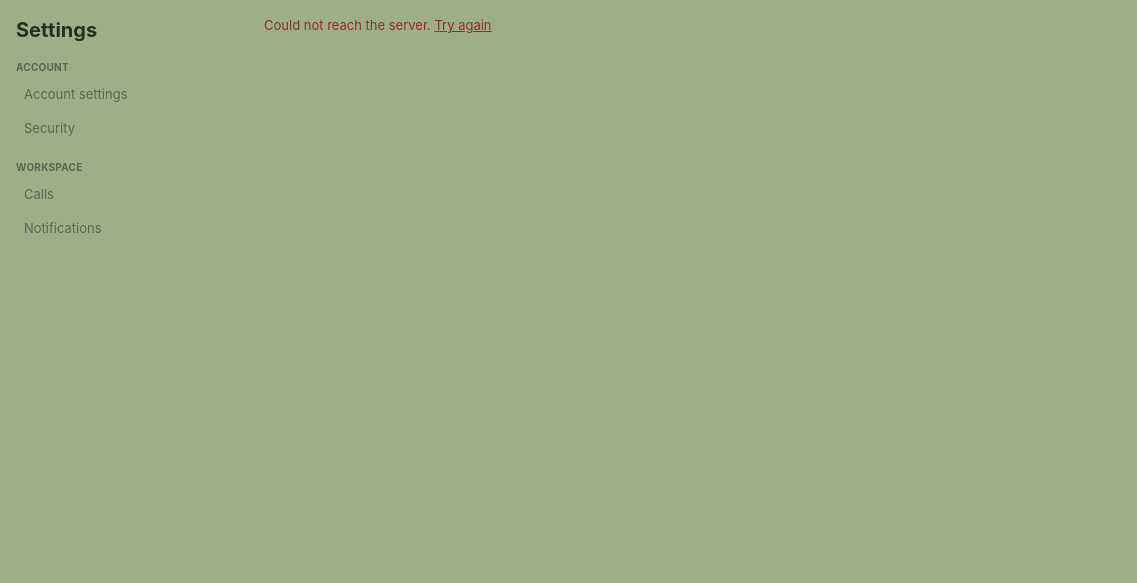
Settings: users, teams and access › shows an error with a way to try again when the server does not answer
Expected: the message "Could not reach the server. Try again" is shown, [264,16,492,36]
Click the button "Try again": (463, 26) [434,16,492,36]
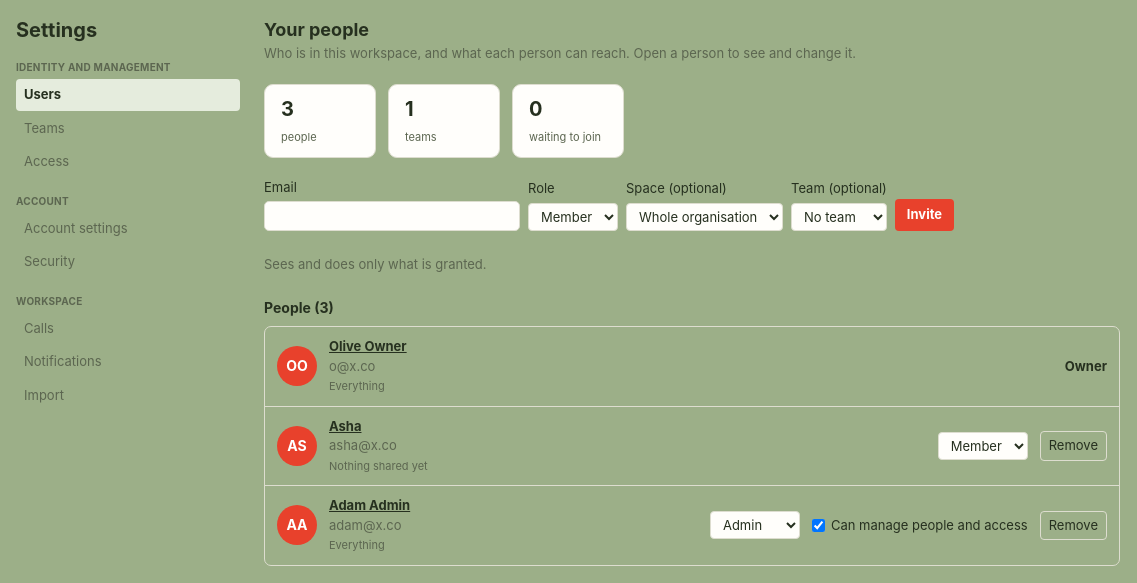
Expected: the element named "People" is shown, [264,298,1120,566]
